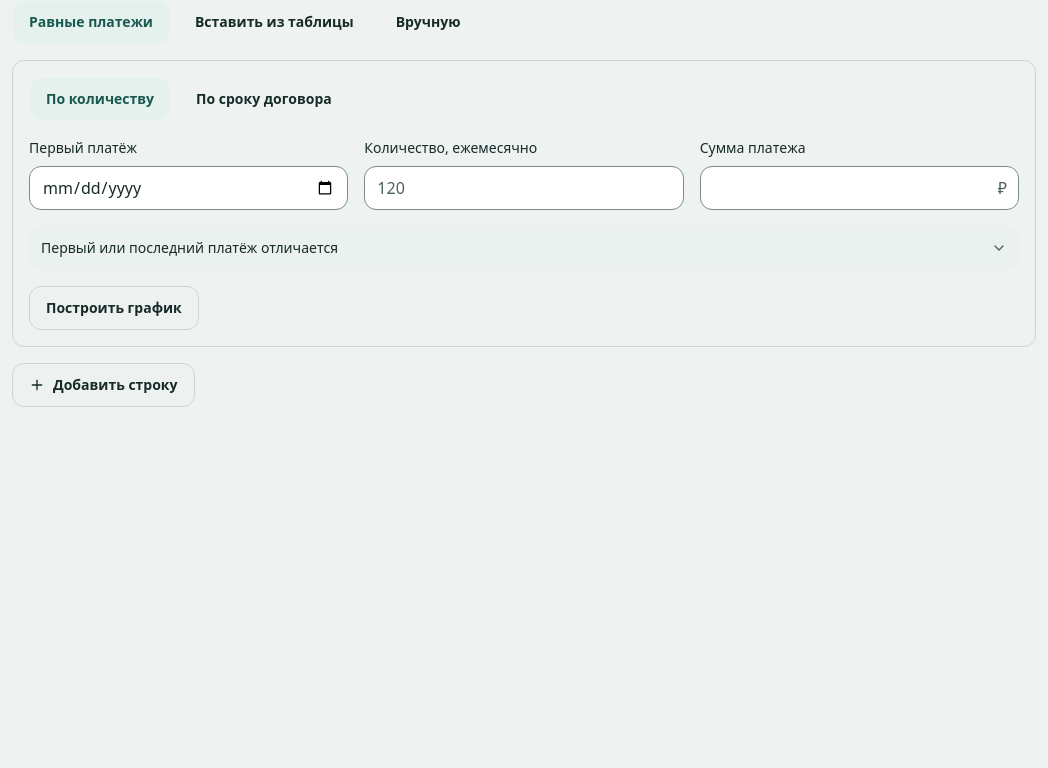
Test: SPEC-0045 schedule by contract term › builds payments from a day of month and a from–to month range
The width and height of the screenshot is (1048, 768).
Click the radio button labelled "По сроку договора": click(264, 99) [179,77,349,121]
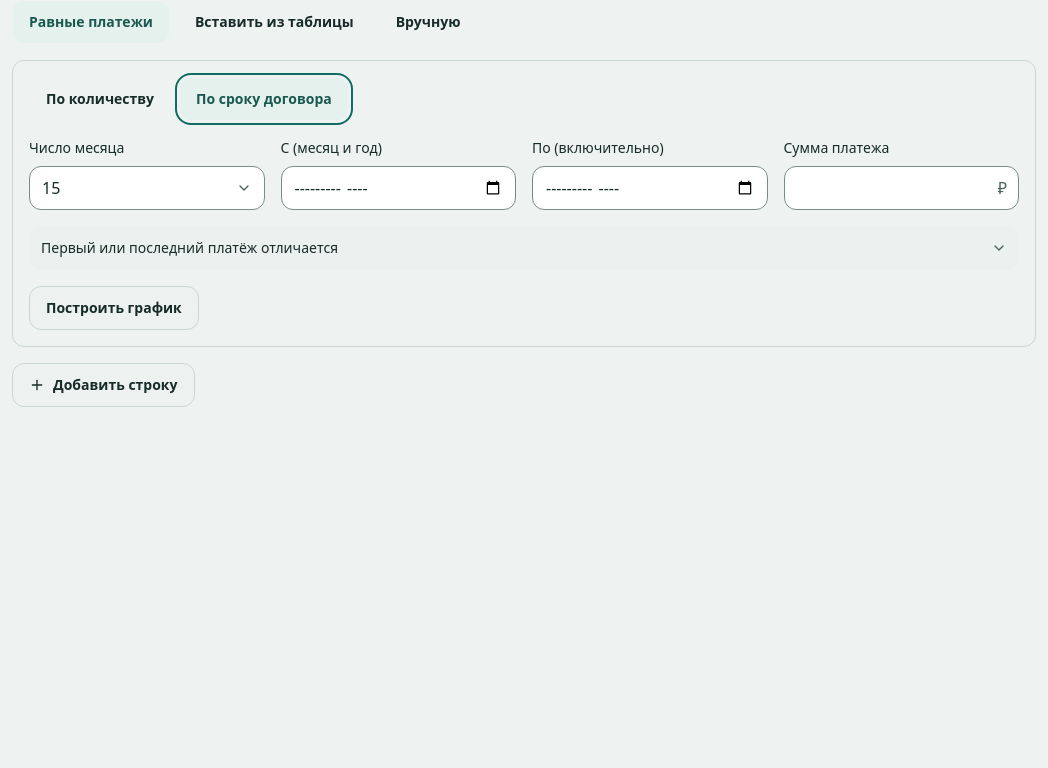
expect the label labelled "Количество, ежемесячно" is gone: met
In the field labelled "С (месяц и год)": (398, 188) [280,166,516,210], type "2027-01"
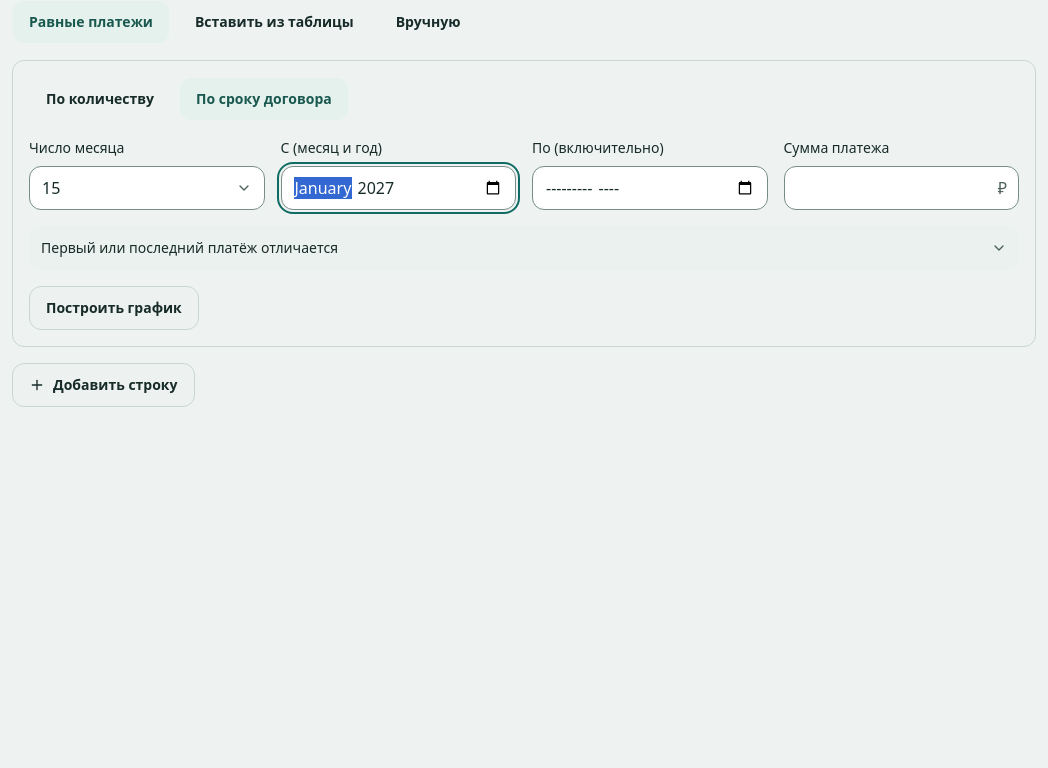
In the field labelled "По (включительно)": (650, 188) [532,166,768,210], type "2036-12"
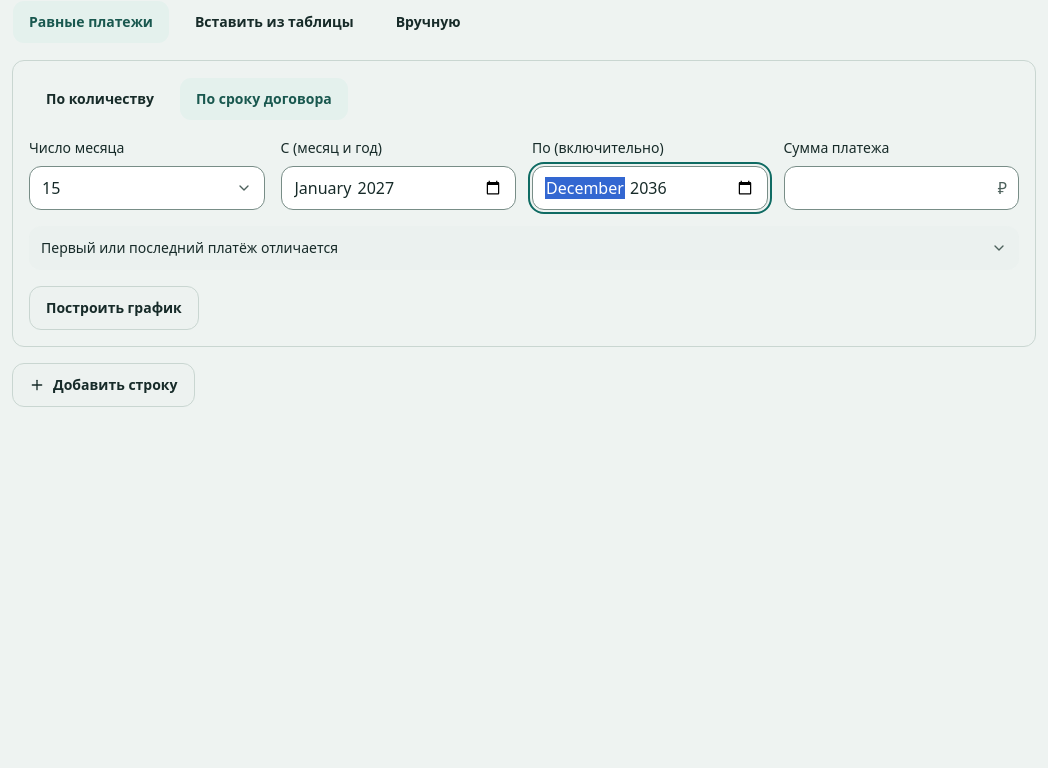
In the field labelled "Сумма платежа": (901, 188) [784,166,1019,210], type "25000"
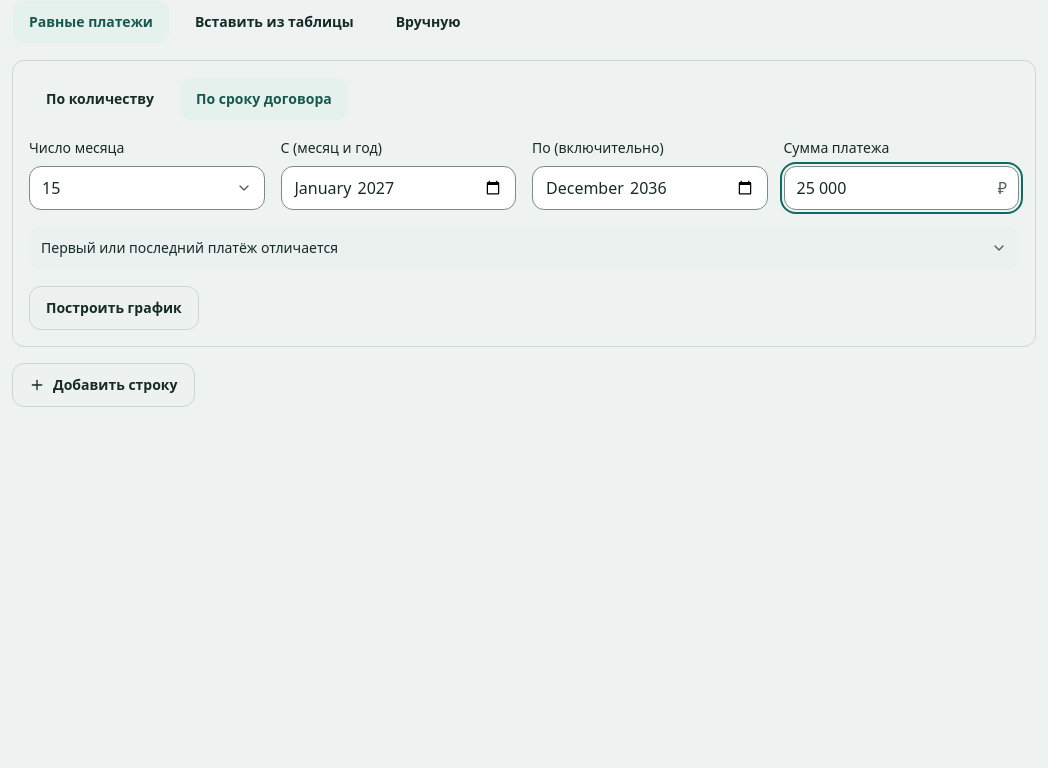
Click the button "Построить график": click(114, 308) [29,286,199,330]
(page scrolled)
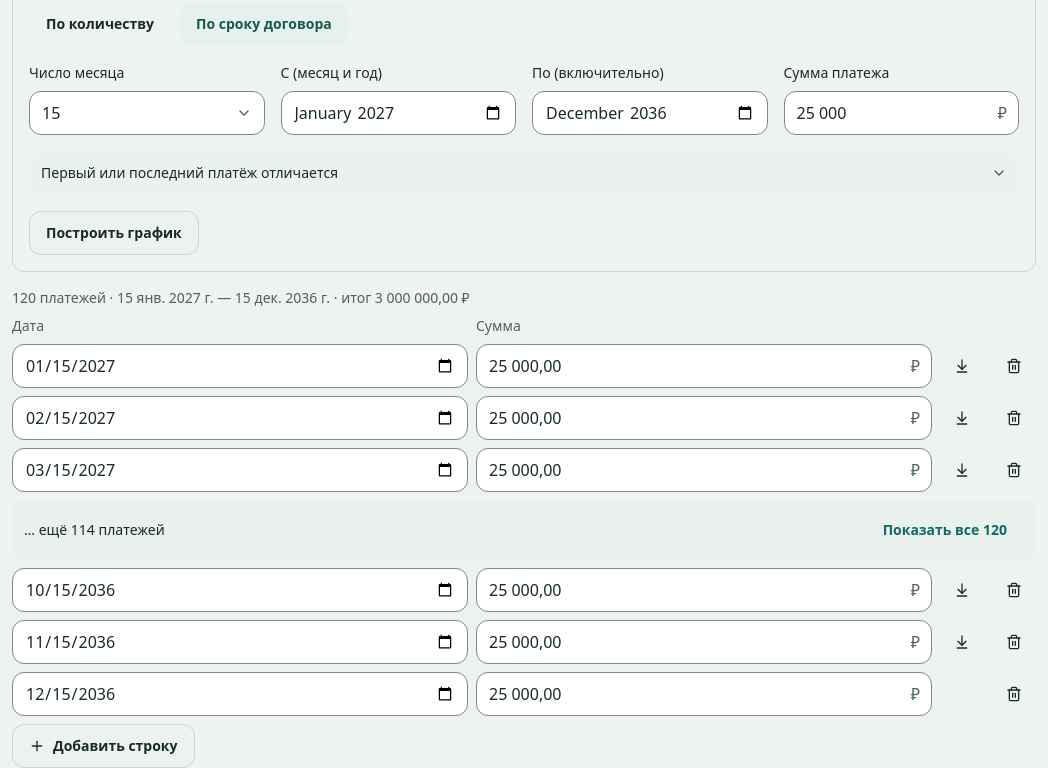
expect the button "Показать все 120" is shown: met, box [866,508,1024,552]
expect the date field named "Дата платежа 120" holds "2036-12-15": met, box [12,672,468,716]
